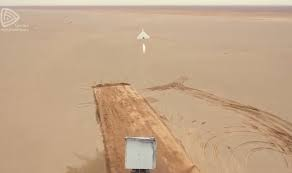shahed: (137, 27, 150, 40)
